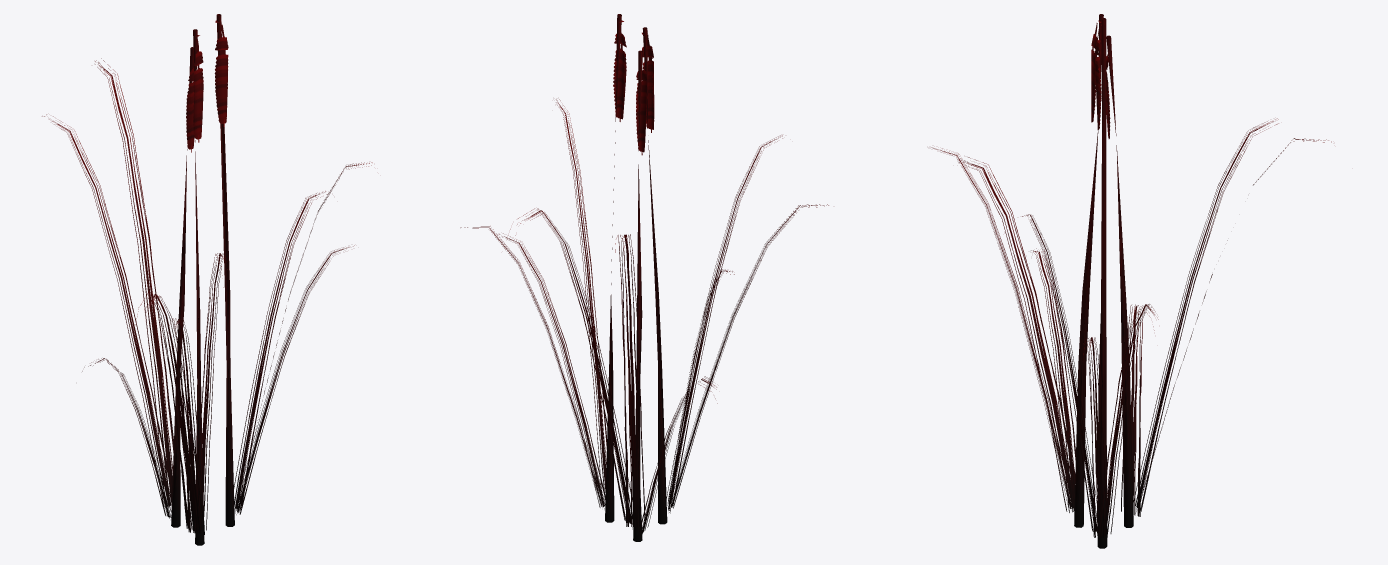
Rendered from plant_swamp_cattail_a_lod2.glb.
3 renders of one model, left to right at view 1: azimuth 30°, elevation 25°; view 2: azimuth 150°, elevation 25°; view 3: azimuth 270°, elevation 25°, orthographic. The views are drawn at different scales.
Visible parts, largest first — view 1: plant_swamp_cattail_a; view 2: plant_swamp_cattail_a; view 3: plant_swamp_cattail_a.
Boxes of the visible parts, left/top/right/bottom form: plant_swamp_cattail_a: left=42, top=14, right=372, bottom=545; plant_swamp_cattail_a: left=460, top=14, right=828, bottom=541; plant_swamp_cattail_a: left=931, top=14, right=1331, bottom=548.
Size of the model in its own units: 0.9698 by 1.44 by 1.19.
1 material, 1 textured.
